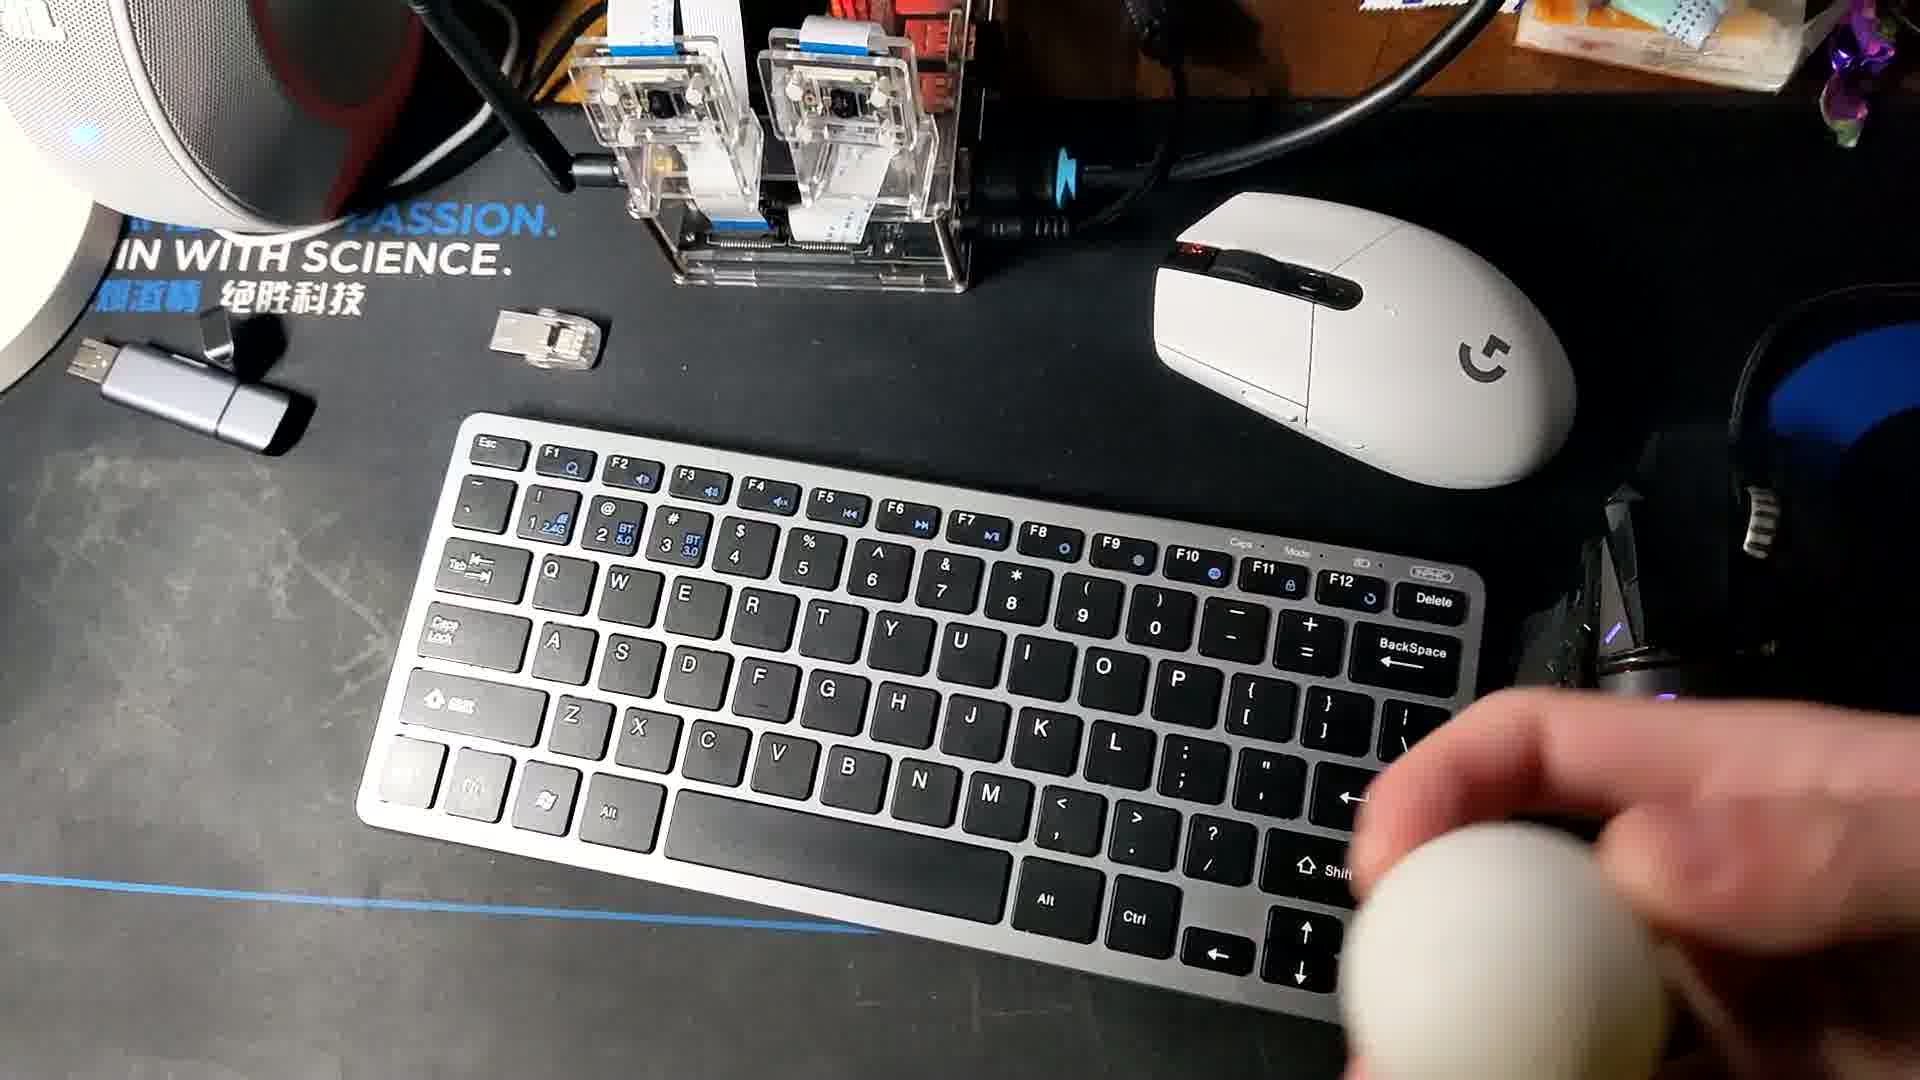Ball: (1340, 823, 1685, 1080)
